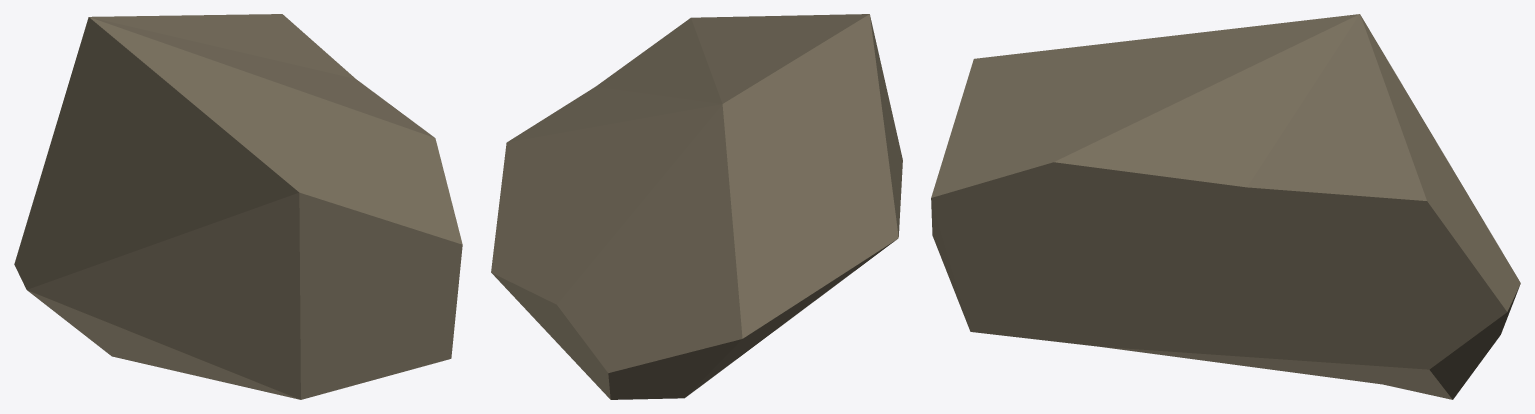
The model's file is Rock_1.fbx.
The picture shows the model from 3 angles, left to right: view 1: azimuth 30°, elevation 25°; view 2: azimuth 150°, elevation 25°; view 3: azimuth 270°, elevation 25°; orthographic projection. The views are drawn at different scales.
Visible parts, largest first — view 1: rock_4; view 2: rock_4; view 3: rock_4.
Boxes of the visible parts, x1,y1,x2,y2 form: rock_4: [14, 14, 462, 399]; rock_4: [491, 14, 902, 399]; rock_4: [931, 14, 1520, 399].
Bounding box in the file's own units: 44.79 × 41.75 × 63.09.
